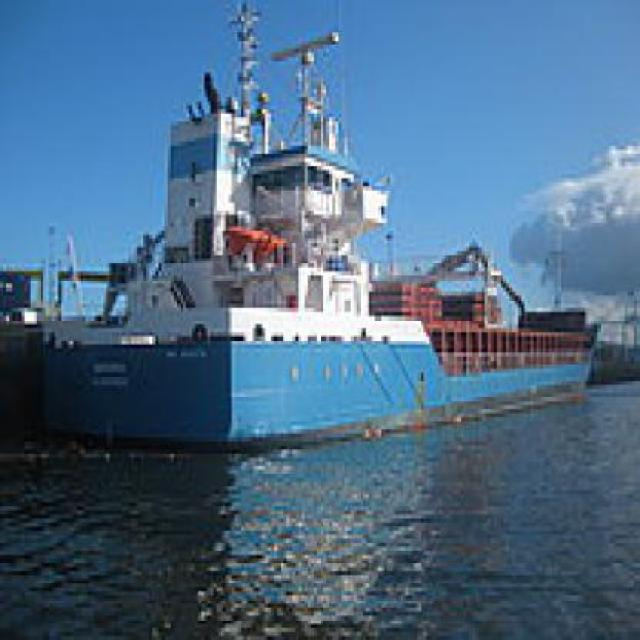container: (26, 37, 601, 471)
